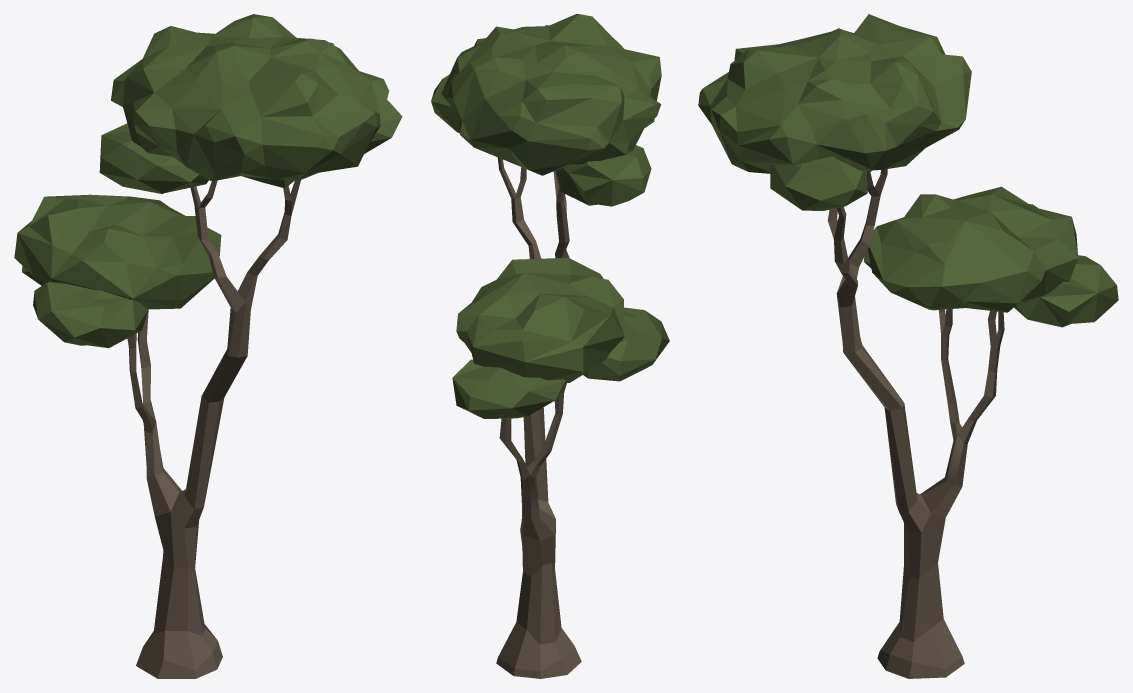
The model's file is tree_6.fbx.
3 renders of one model, left to right at view 1: azimuth 30°, elevation 25°; view 2: azimuth 150°, elevation 25°; view 3: azimuth 270°, elevation 25°, orthographic. The views are drawn at different scales.
Parts seen in each view (by area): view 1: tree_006; view 2: tree_006; view 3: tree_006.
Part boxes in pixels (x1=…): tree_006: x1=14, y1=14, x2=402, y2=678; tree_006: x1=431, y1=14, x2=669, y2=678; tree_006: x1=698, y1=14, x2=1118, y2=678.
Size of the model in its own units: 0.5272 by 1.08 by 0.6497.
1 material, 1 textured.
